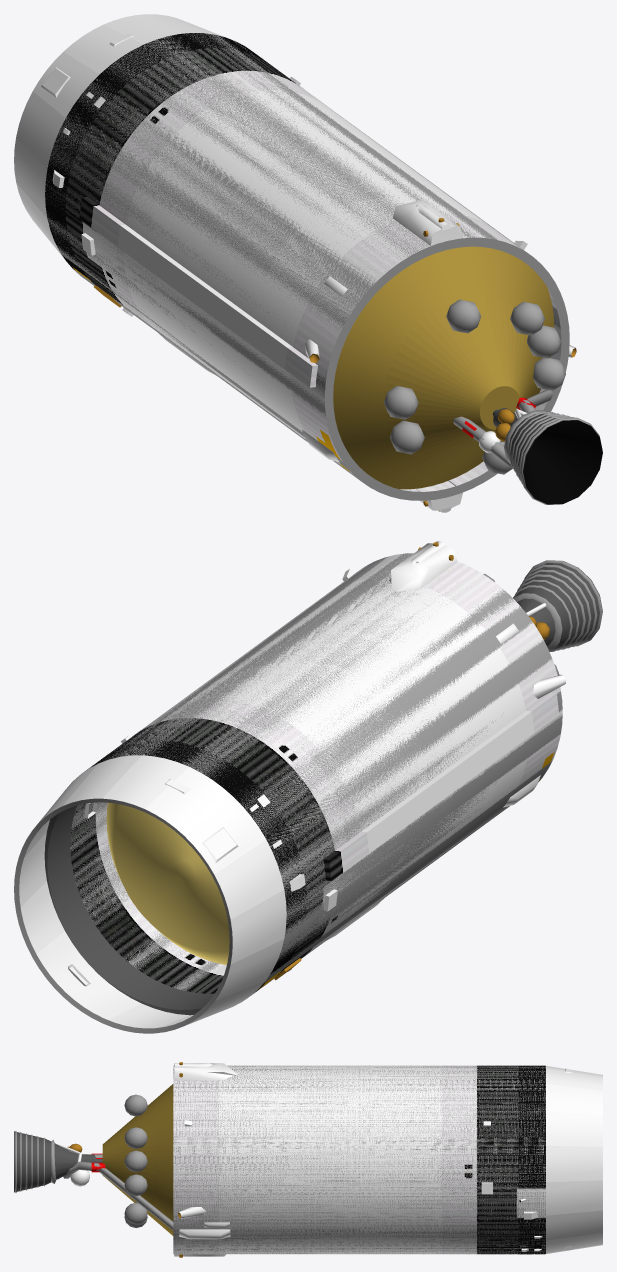
File: sat5stg3.obj
3 views of the same model, one above another, from view 1: azimuth 30°, elevation 25°; view 2: azimuth 150°, elevation 25°; view 3: azimuth 270°, elevation 25° (orthographic). The views are drawn at different scales.
Visible parts, largest first — view 1: group148, group359, group19, group358, group150, group344, group345, group308, group347, group352, group354, group357 (+4 smaller); view 2: group148, group359, group344, group345, group370, group346, group347, group362, group308; view 3: group148, group359, group345, group344, group19, group347, group308, group349, group304, group356, group355, group354 (+2 smaller).
Boxes of the visible parts, box(x1,y1,x2,y2) form: group148: box(45, 33, 561, 491); group359: box(45, 33, 560, 479); group19: box(333, 246, 554, 489); group358: box(324, 237, 569, 500); group150: box(523, 420, 602, 504); group344: box(16, 14, 223, 257); group345: box(14, 14, 190, 218); group308: box(393, 199, 459, 512); group347: box(492, 408, 577, 486); group352: box(383, 386, 418, 419); group354: box(446, 299, 480, 333); group357: box(510, 301, 544, 335); group148: box(70, 553, 562, 993); group359: box(70, 553, 562, 994); group344: box(20, 755, 284, 1027); group345: box(19, 755, 286, 1028); group370: box(106, 802, 229, 964); group346: box(44, 780, 214, 1015); group347: box(515, 561, 602, 649); group362: box(14, 798, 232, 1033); group308: box(389, 541, 457, 591); group148: box(173, 1065, 545, 1254); group359: box(173, 1065, 545, 1254); group345: box(546, 1068, 602, 1252); group344: box(546, 1066, 602, 1253); group19: box(154, 1084, 173, 1235); group347: box(14, 1131, 102, 1192); group308: box(173, 1063, 237, 1256); group349: box(99, 1165, 173, 1230); group304: box(179, 1229, 230, 1239); group356: box(124, 1150, 147, 1172); group355: box(124, 1174, 147, 1196); group354: box(124, 1094, 147, 1116).
Bounding box in the file's own units: 7.22 × 7.51 × 20.65.
10 materials, 1 textured.
